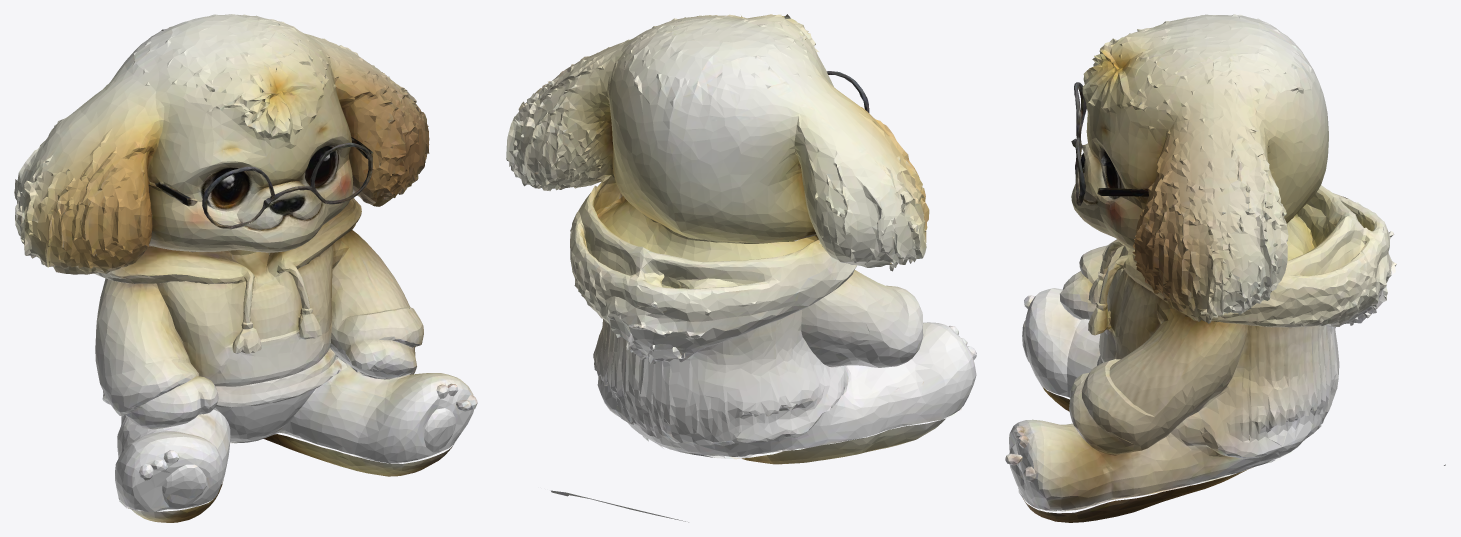
Rendered from char_clo.glb.
3 renders of one model, left to right at view 1: azimuth 30°, elevation 25°; view 2: azimuth 150°, elevation 25°; view 3: azimuth 270°, elevation 25°, orthographic. The views are drawn at different scales.
Parts seen in each view (by area): view 1: char_clo_model; view 2: char_clo_model; view 3: char_clo_model.
Boxes of the visible parts, bbox=[...] form: char_clo_model: bbox=[14, 14, 477, 522]; char_clo_model: bbox=[506, 14, 976, 522]; char_clo_model: bbox=[1005, 14, 1445, 522].
Size of the model in its own units: 0.9729 by 0.9659 by 0.8856.
1 material, 1 textured.
